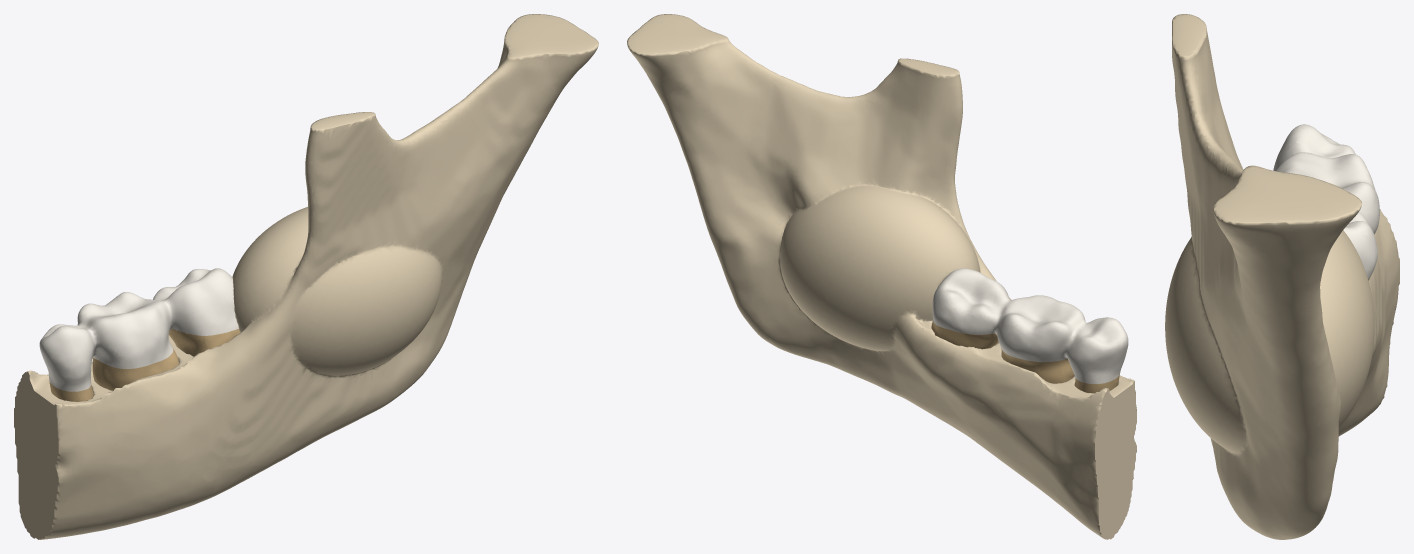
Rendered from cyst-whole.glb.
The picture shows the model from 3 angles, left to right: view 1: azimuth 30°, elevation 25°; view 2: azimuth 150°, elevation 25°; view 3: azimuth 270°, elevation 25°; orthographic projection. The views are drawn at different scales.
Visible parts, largest first — view 1: bone, teeth; view 2: bone, teeth; view 3: bone, teeth.
Part boxes in pixels (x1,y1,x2,y2): bone: (14,14,598,539); teeth: (39,268,240,401); bone: (627,14,1136,539); teeth: (931,268,1128,393); bone: (1165,14,1399,539); teeth: (1273,124,1379,280).
Bounding box in the file's own units: 81.93 × 59.05 × 22.39.
